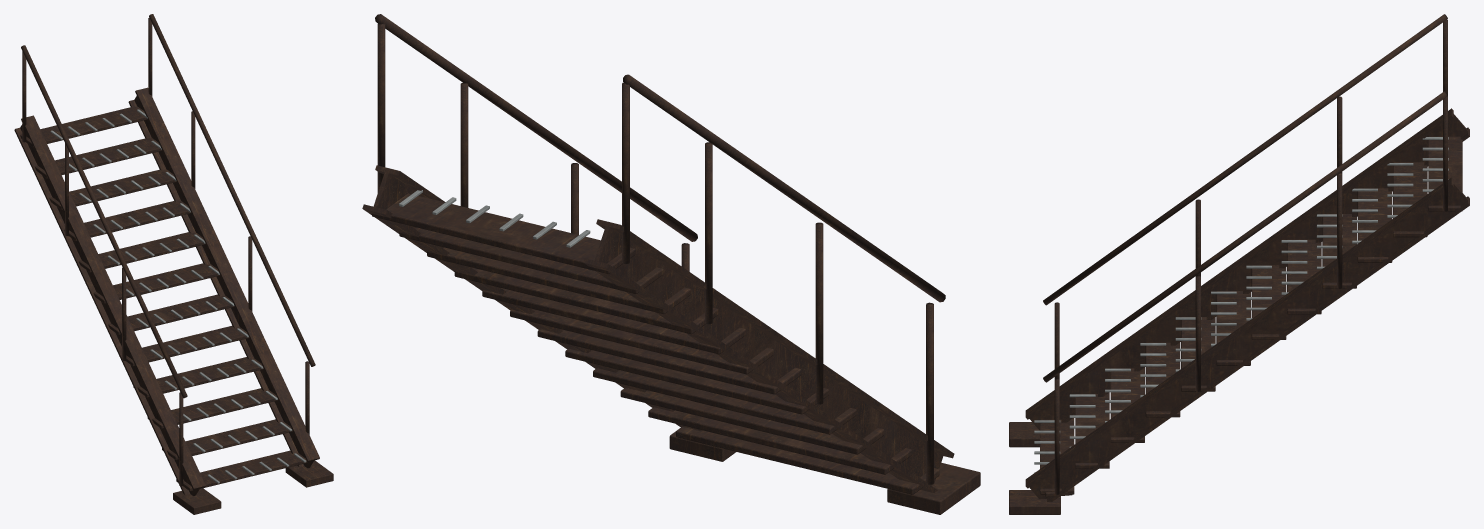
The model's file is f3_service_stair.glb.
3 renders of one model, left to right at view 1: azimuth 30°, elevation 25°; view 2: azimuth 150°, elevation 25°; view 3: azimuth 270°, elevation 25°, orthographic. The views are drawn at different scales.
Parts seen in each view (by area): view 1: f3_oxidized_iron_surface, f3_bare_worn_steel_surface; view 2: f3_oxidized_iron_surface, f3_bare_worn_steel_surface; view 3: f3_oxidized_iron_surface, f3_bare_worn_steel_surface.
Part boxes in pixels (left/top/right/bottom): f3_oxidized_iron_surface: left=14, top=14, right=333, bottom=514; f3_bare_worn_steel_surface: left=50, top=109, right=306, bottom=483; f3_oxidized_iron_surface: left=362, top=14, right=980, bottom=514; f3_bare_worn_steel_surface: left=399, top=190, right=590, bottom=247; f3_oxidized_iron_surface: left=1009, top=14, right=1469, bottom=514; f3_bare_worn_steel_surface: left=1034, top=137, right=1448, bottom=472.
Size of the model in its own units: 1.62 by 3.76 by 3.73.
2 materials, 2 textured.
